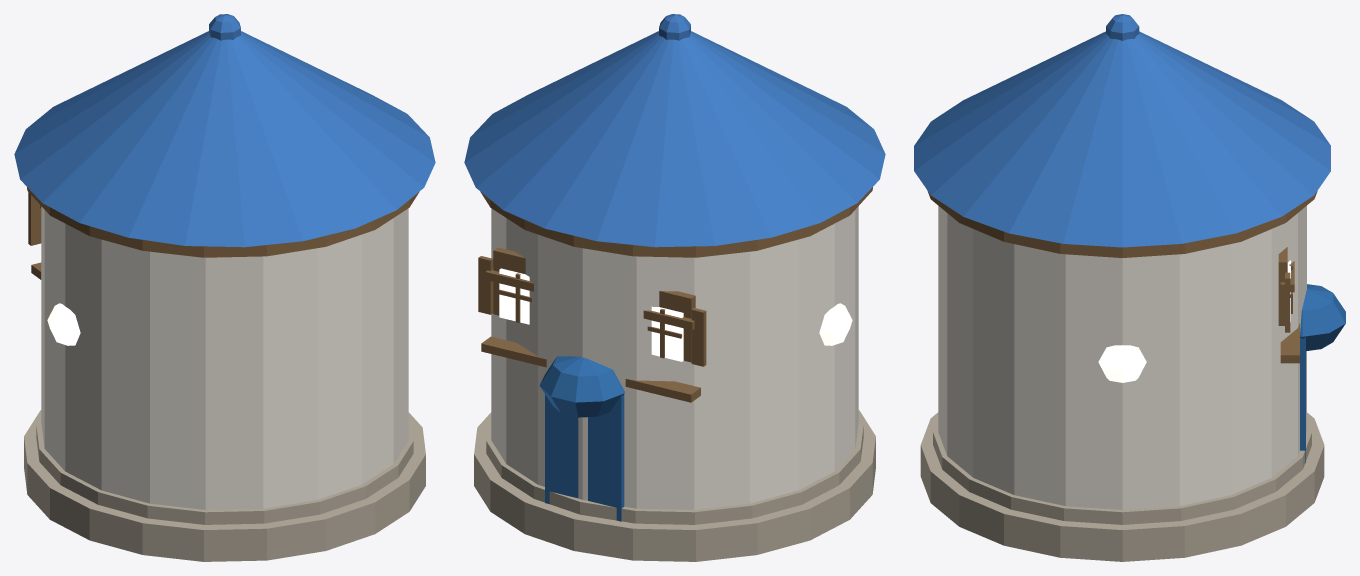
Rendered from xy_house_round.glb.
3 views of the same model, side by side, from view 1: azimuth 30°, elevation 25°; view 2: azimuth 150°, elevation 25°; view 3: azimuth 270°, elevation 25° (orthographic).
Visible parts, largest first — view 1: House; view 2: House; view 3: House.
Boxes of the visible parts, left/top/right/bottom form: House: left=14, top=14, right=435, bottom=561; House: left=464, top=14, right=885, bottom=561; House: left=914, top=14, right=1345, bottom=561.
Size of the model in its own units: 4.8 by 5.8 by 4.92.
